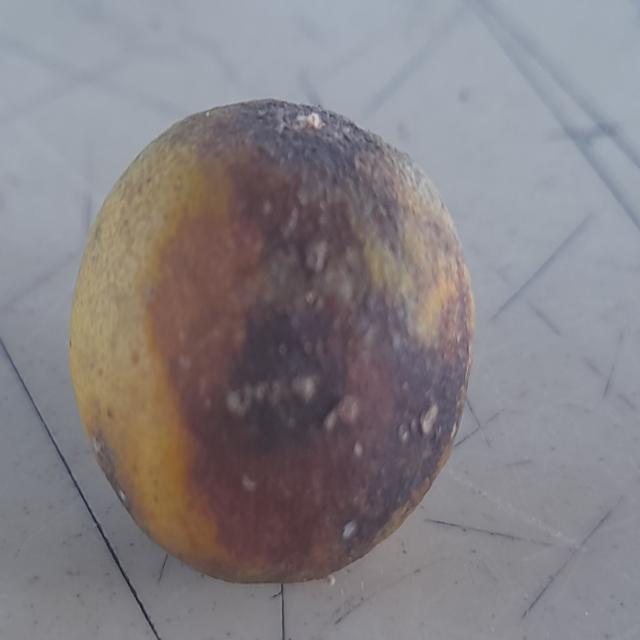black spot: (68, 83, 476, 598)
